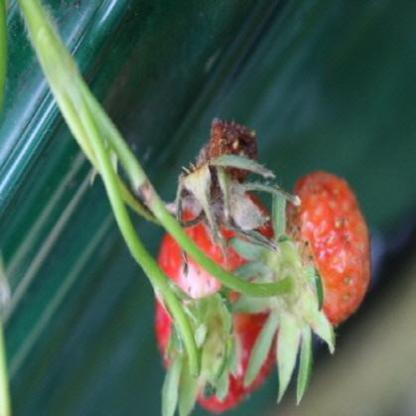Strawberry_Gray_Mold: (166, 118, 302, 258)
